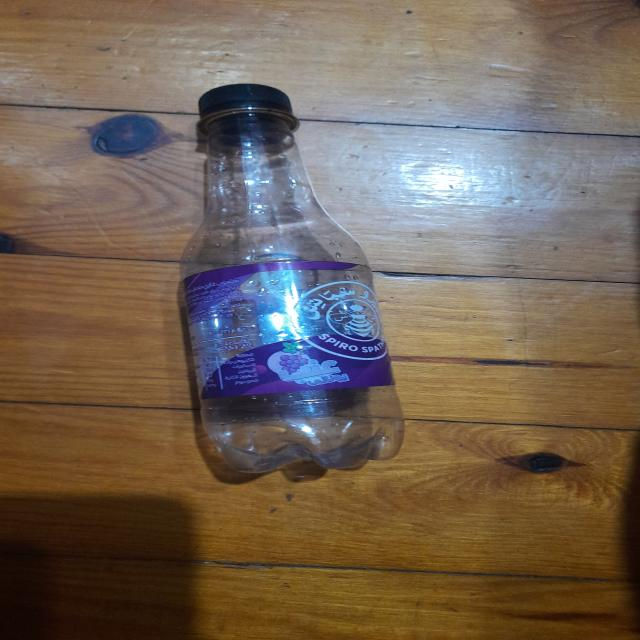plastic: (116, 79, 453, 489)
